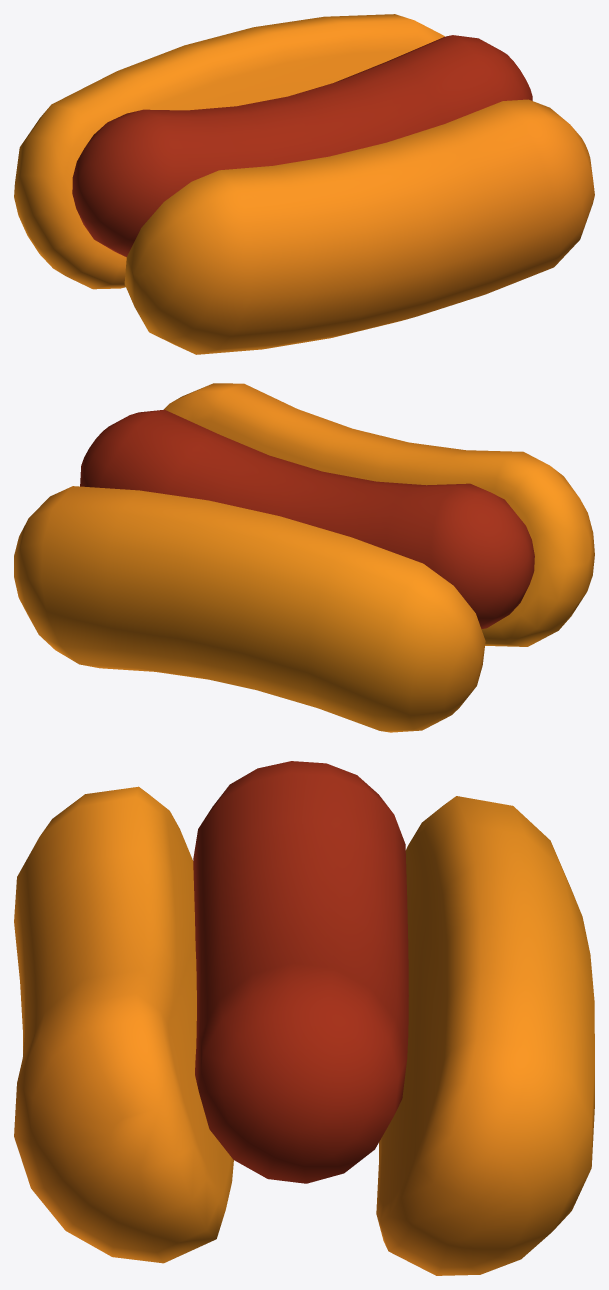
The model's file is Hotdog.fbx.
3 views of the same model, one above another, from view 1: azimuth 30°, elevation 25°; view 2: azimuth 150°, elevation 25°; view 3: azimuth 270°, elevation 25° (orthographic). The views are drawn at different scales.
Parts seen in each view (by area): view 1: hotdog; view 2: hotdog; view 3: hotdog.
Boxes of the visible parts, left/top/right/bottom form: hotdog: left=14, top=14, right=594, bottom=354; hotdog: left=14, top=383, right=594, bottom=732; hotdog: left=14, top=761, right=594, bottom=1275.
Size of the model in its own units: 0.3454 by 0.1521 by 0.2714.
